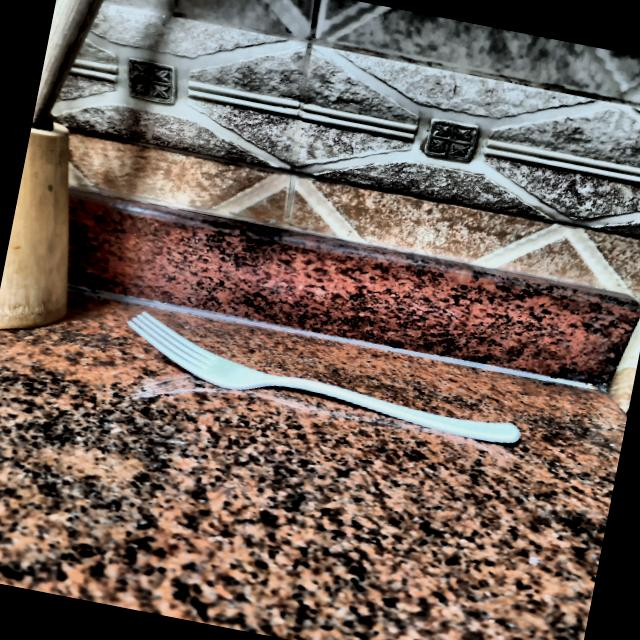plastic utensil: (111, 306, 534, 449)
